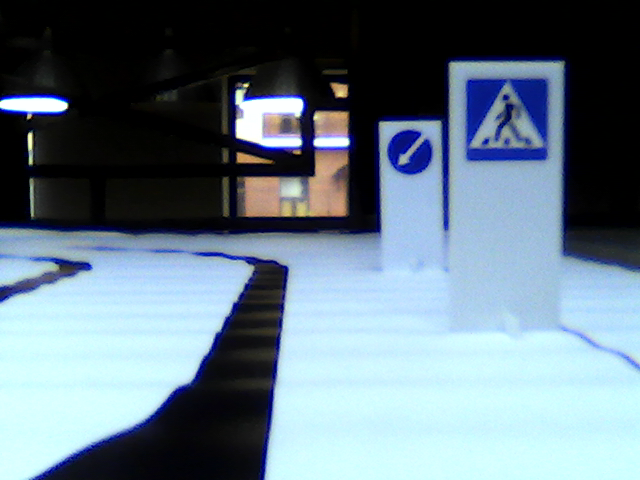pesh: (462, 75, 547, 163)
prep: (387, 130, 433, 173)
